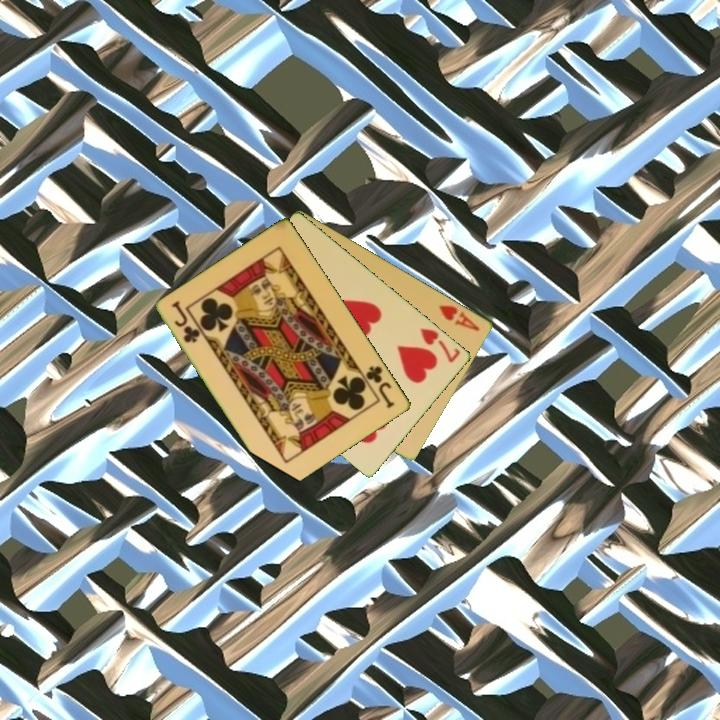7h: (417, 324, 464, 366)
Ah: (435, 301, 483, 334)
Jc: (363, 362, 398, 411), (168, 298, 203, 346)
